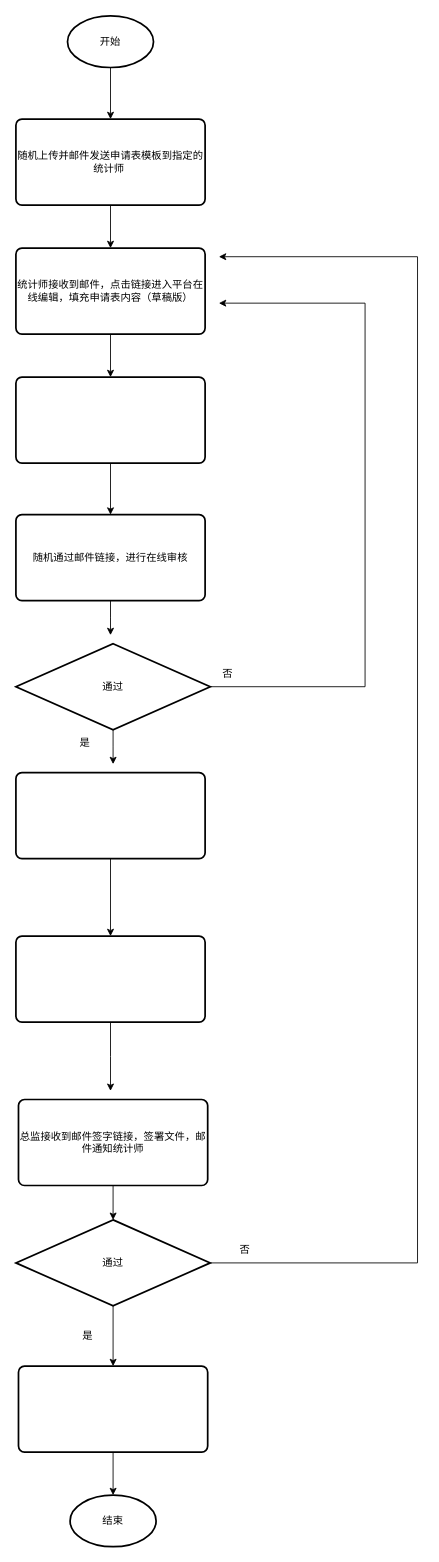
Some shapes in this 439 by 1562 pixel diagram are drawn without their labels. The centre of each missing label's shape, as x and y in pixels:
统计师将审核版文件上传至平台，发起签字工作流，邮件通知总监: the point at 110,979
统计师点击提交按钮，发送邮件给随机，待随机审核: the point at 110,420
统计师进入平台将签署后文件，通过发送按钮，发送至随机: the point at 112,1409
邮件通知统计师，审核通过(审核版): the point at 110,815
